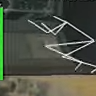hacks_2: (1, 7, 96, 80)
